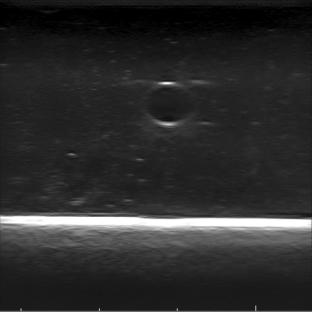vessel: (140, 82, 200, 128)
